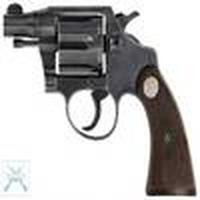gun: (3, 4, 199, 200)
